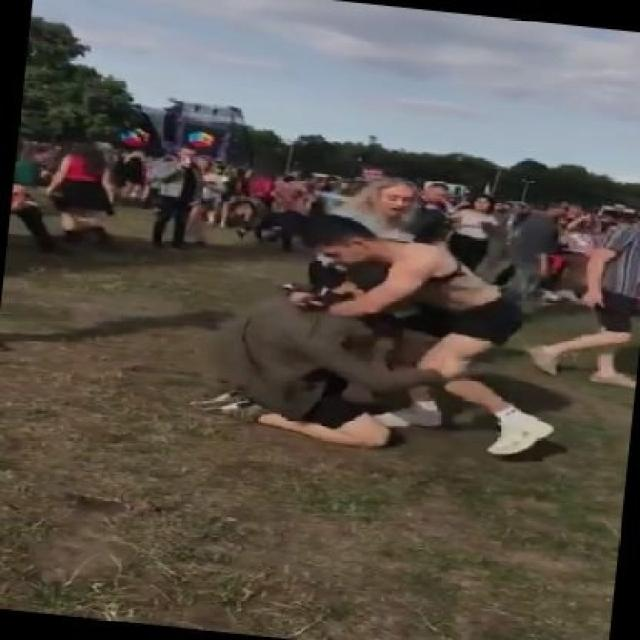fight: (199, 226, 553, 456)
